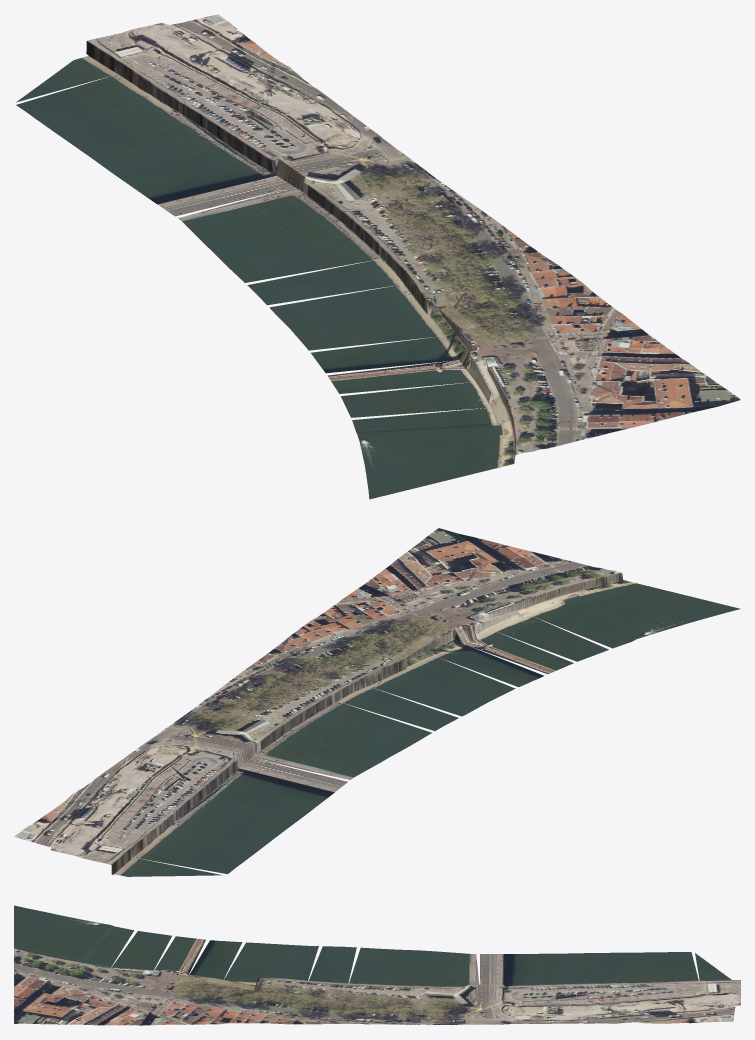
The model's file is gml_38179d6d-9886-48a9-9634-4e5eb1016a06.gltf.
3 views of the same model, one above another, from view 1: azimuth 30°, elevation 25°; view 2: azimuth 150°, elevation 25°; view 3: azimuth 270°, elevation 25° (orthographic). The views are drawn at different scales.
Visible parts, largest first — view 1: Z_UP; view 2: Z_UP; view 3: Z_UP.
Part boxes in pixels (box(x1,y1,x2,y2)): Z_UP: box(16, 14, 740, 499); Z_UP: box(14, 528, 740, 876); Z_UP: box(14, 905, 740, 1025).
Size of the model in its own units: 203 by 10.5 by 500.
Materials: 1 (1 with a texture image).
